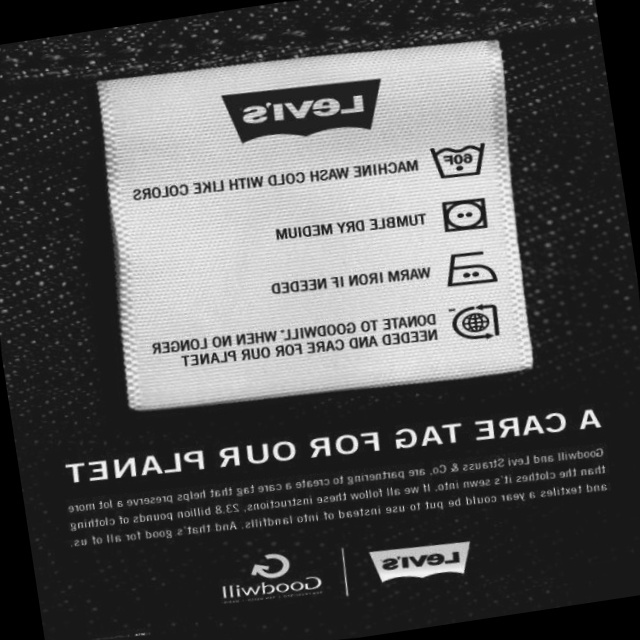30C: (424, 131, 492, 187)
iron_medium: (437, 242, 502, 295)
tumble_dry_medium: (434, 192, 495, 240)
